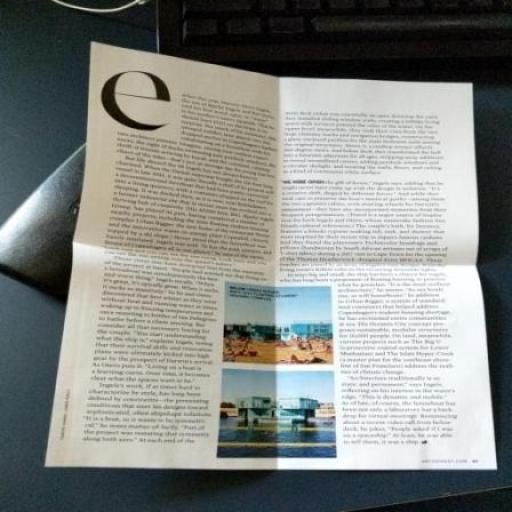paper: (59, 29, 502, 490)
